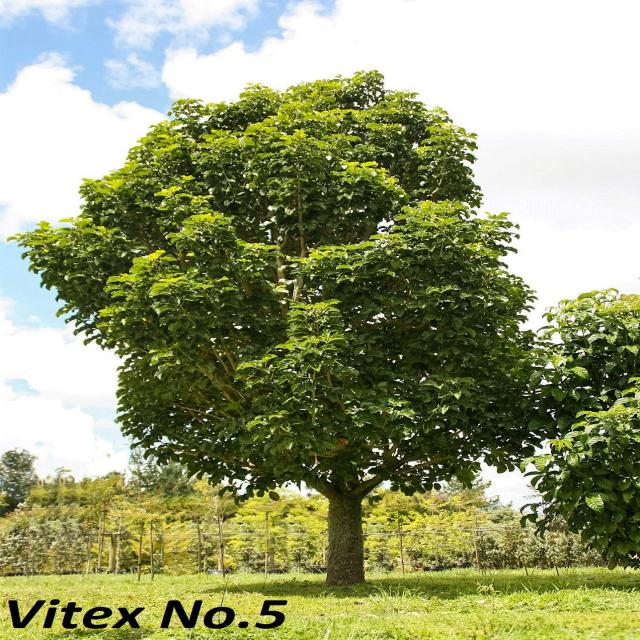Vitex lucens: (14, 73, 548, 593)
